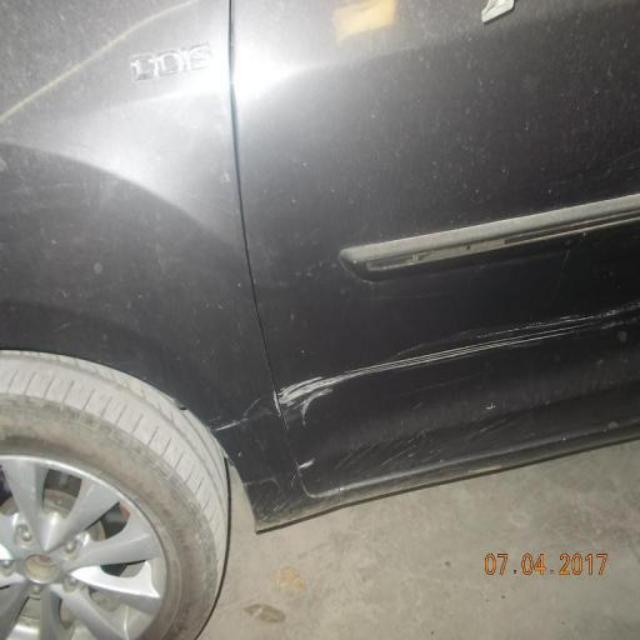scratch: (256, 296, 639, 434), (259, 443, 515, 533), (297, 454, 320, 475), (482, 402, 501, 420)
